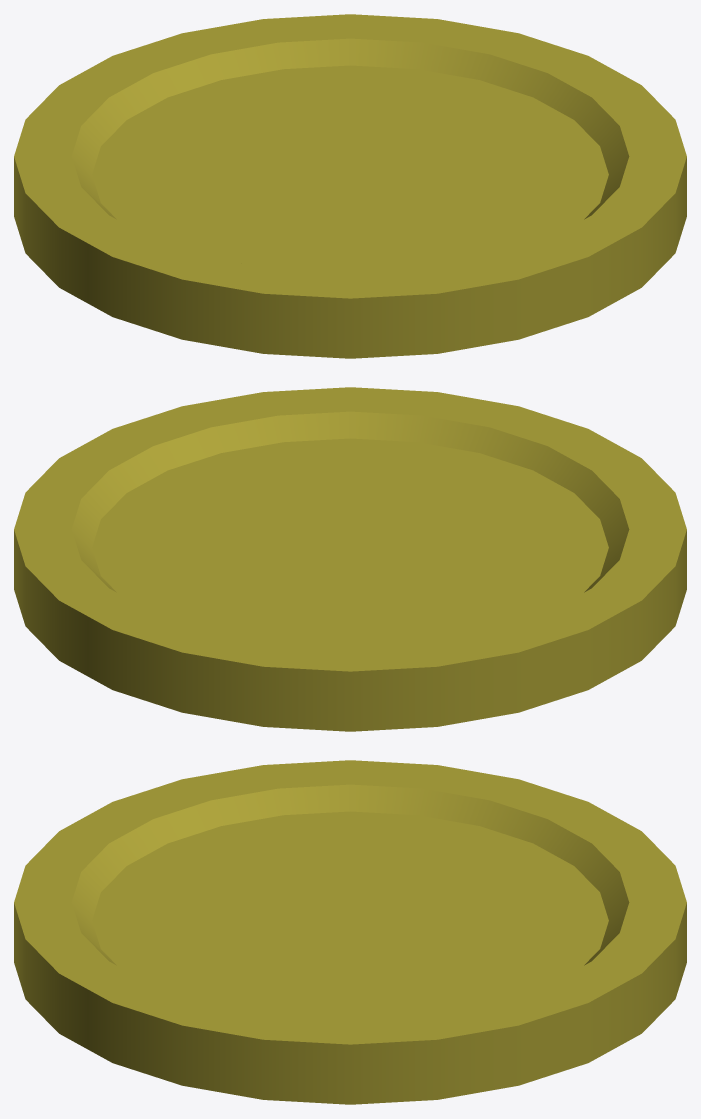
Rendered from Coin-Diego (1).fbx.
3 renders of one model, top to bottom at view 1: azimuth 30°, elevation 25°; view 2: azimuth 150°, elevation 25°; view 3: azimuth 270°, elevation 25°, orthographic.
Visible parts, largest first — view 1: pCylinder2; view 2: pCylinder2; view 3: pCylinder2.
Part boxes in pixels (bbox=[...]): pCylinder2: bbox=[14, 14, 686, 358]; pCylinder2: bbox=[14, 387, 686, 731]; pCylinder2: bbox=[14, 760, 686, 1104].
Size of the model in its own units: 2 by 0.1973 by 2.
